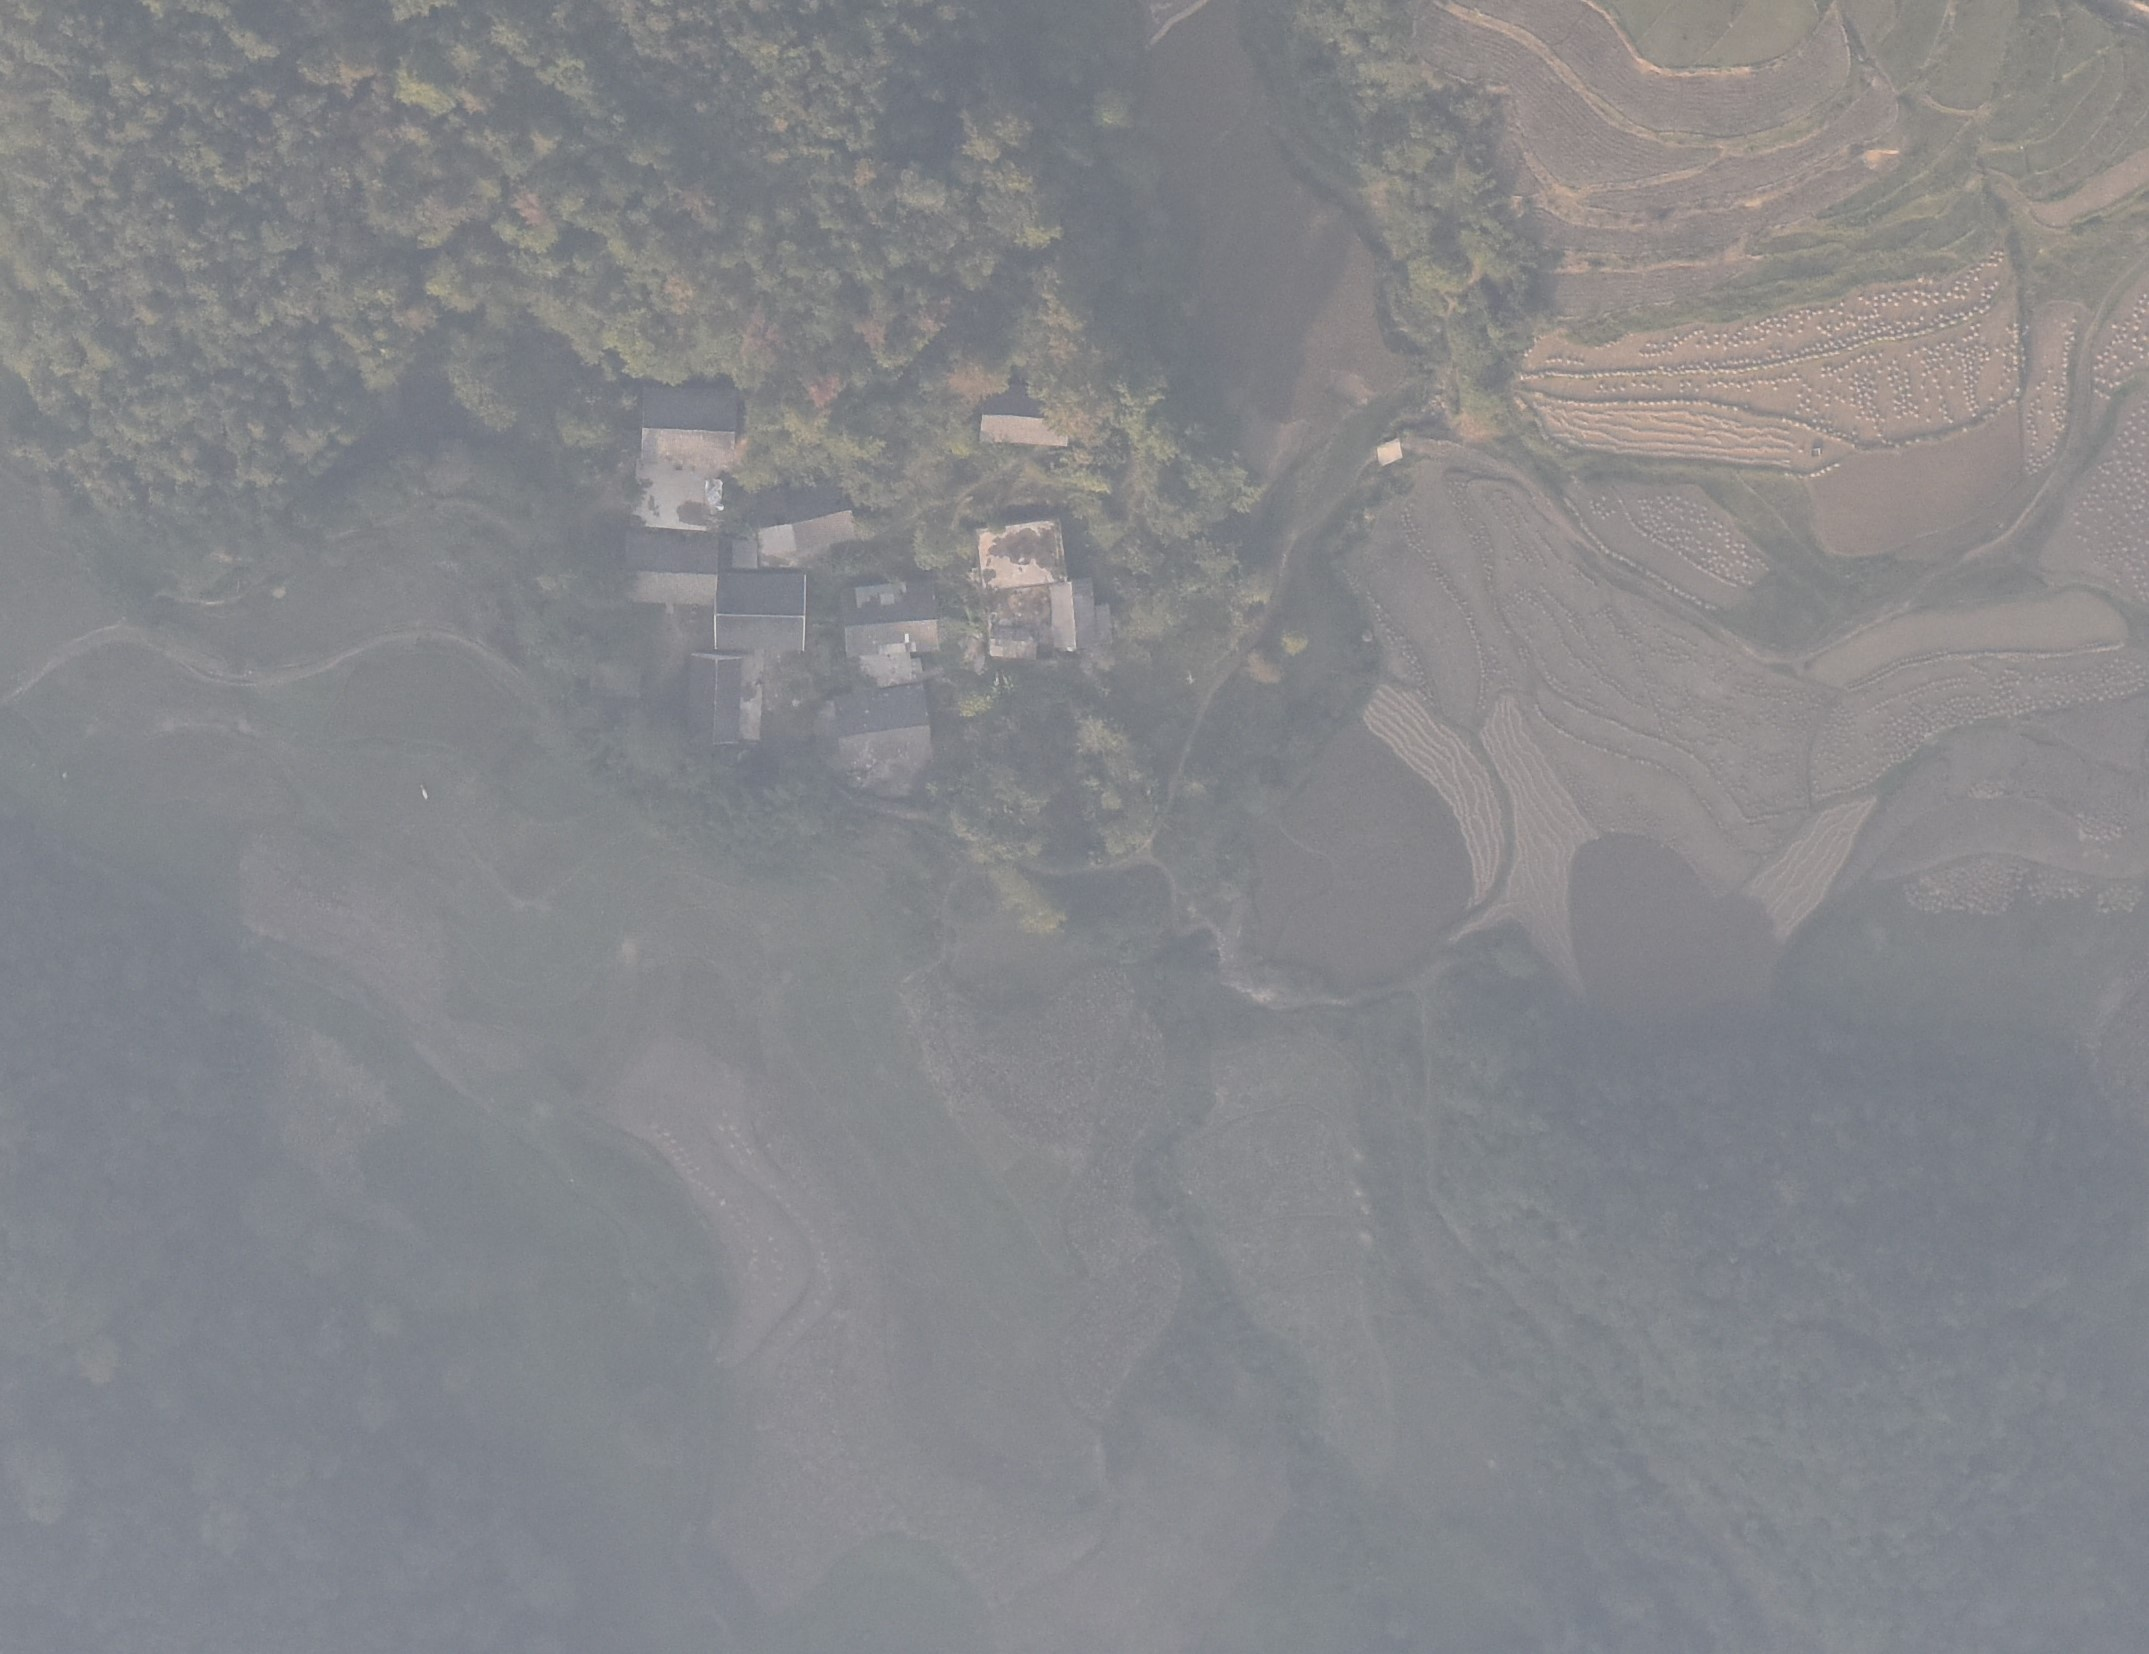building: (627, 422, 737, 543), (825, 680, 946, 778), (677, 644, 766, 761), (837, 572, 947, 665), (709, 564, 812, 658), (616, 526, 723, 611), (975, 382, 1092, 453), (972, 515, 1073, 592), (760, 509, 862, 557), (1044, 573, 1105, 653), (983, 617, 1041, 658)
